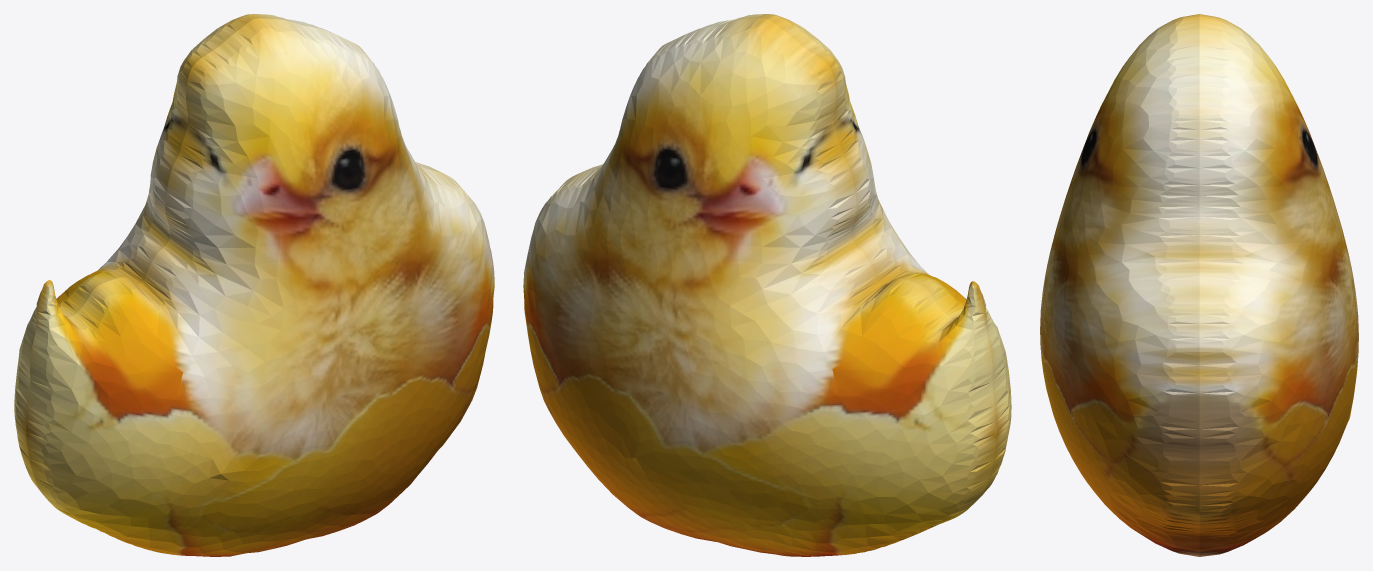
The model's file is birrd.glb.
3 views of the same model, side by side, from view 1: azimuth 30°, elevation 25°; view 2: azimuth 150°, elevation 25°; view 3: azimuth 270°, elevation 25° (orthographic). The views are drawn at different scales.
Parts seen in each view (by area): view 1: 994e69f7-2383-48f2-b9d1-60b84e546f6d; view 2: 994e69f7-2383-48f2-b9d1-60b84e546f6d; view 3: 994e69f7-2383-48f2-b9d1-60b84e546f6d.
Part boxes in pixels (x1,y1,x2,y2): 994e69f7-2383-48f2-b9d1-60b84e546f6d: (14, 14, 494, 556); 994e69f7-2383-48f2-b9d1-60b84e546f6d: (523, 14, 1011, 556); 994e69f7-2383-48f2-b9d1-60b84e546f6d: (1040, 14, 1358, 556).
Size of the model in its own units: 0.1199 by 0.1304 by 0.0755.
1 material, 1 textured.
